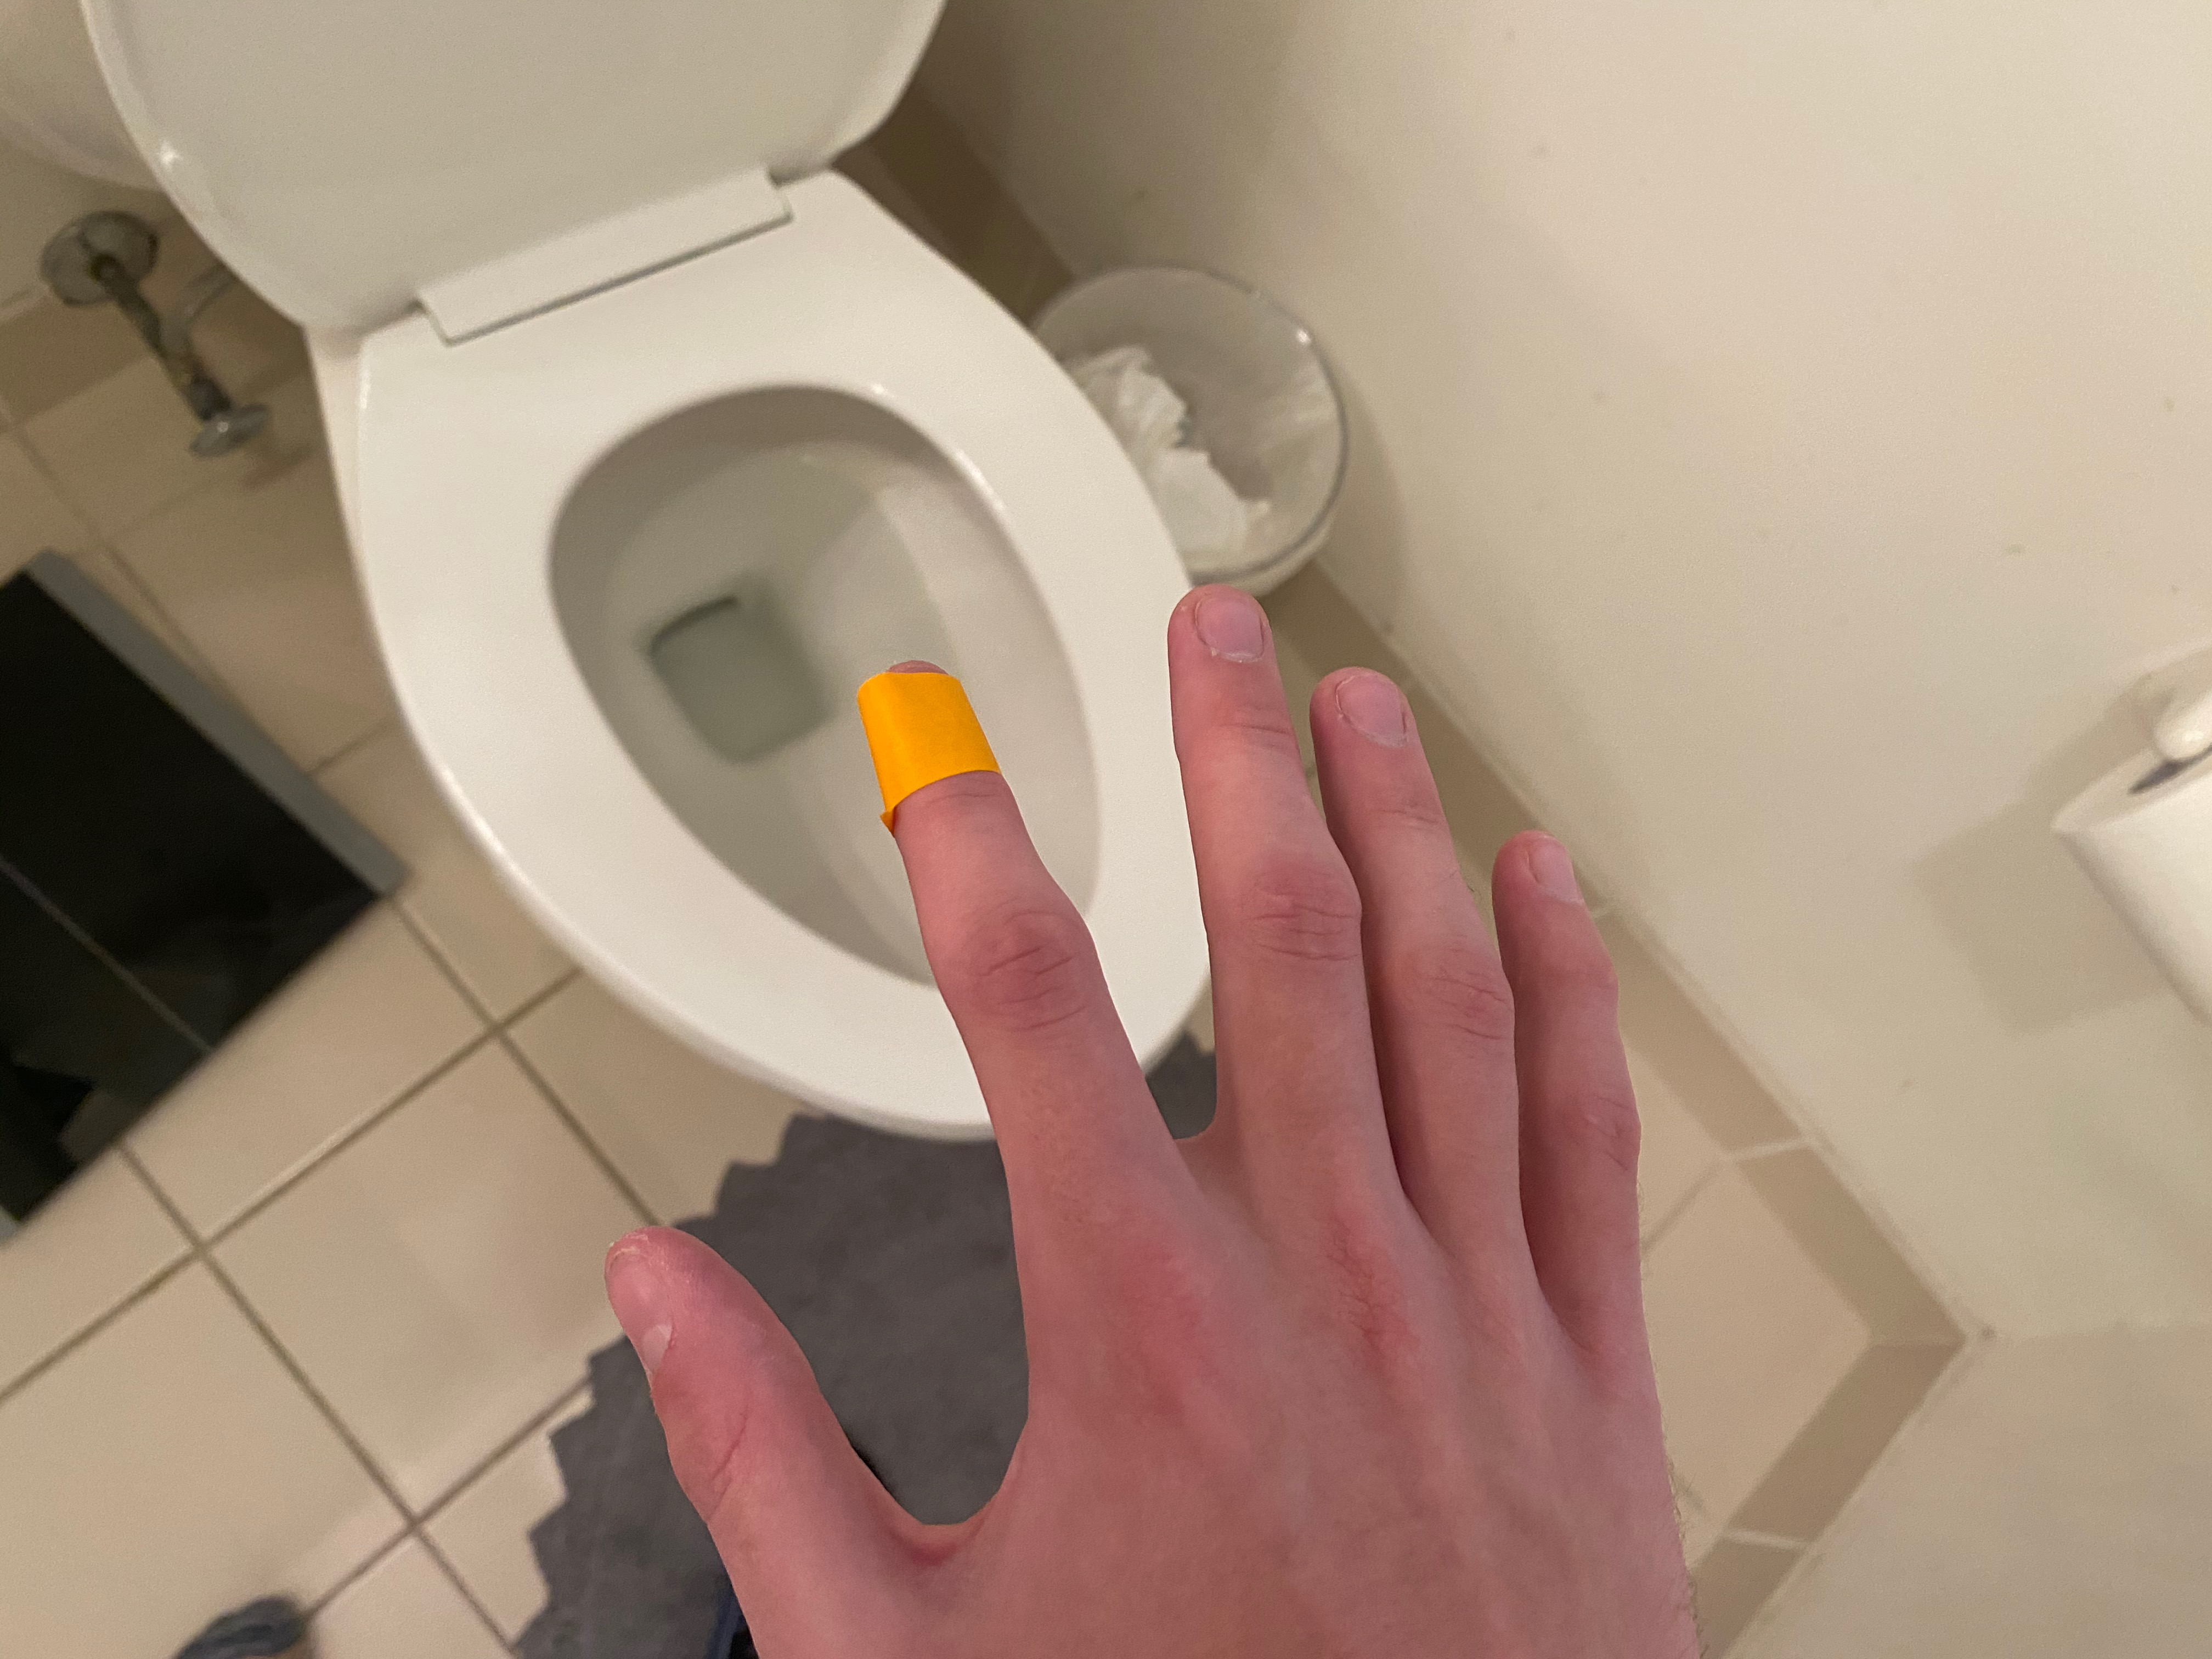fingertip: (826, 645, 1080, 857)
